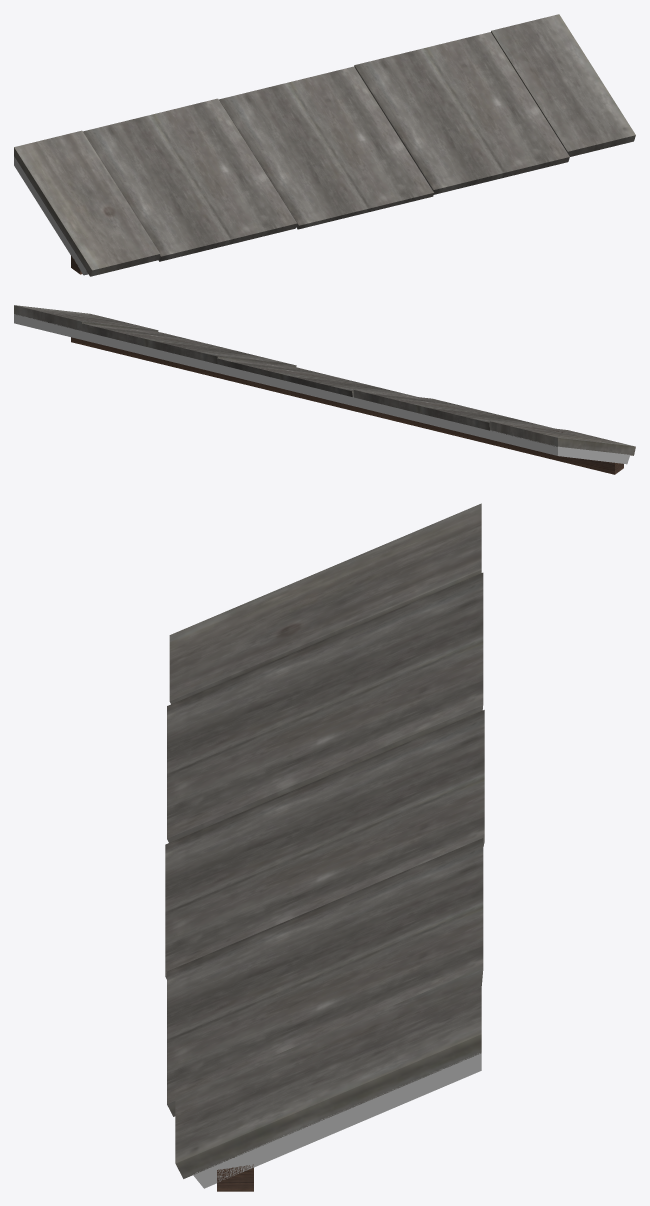
The model's file is itabuki_2x0t_a1middle.fbx.
3 views of the same model, one above another, from view 1: azimuth 30°, elevation 25°; view 2: azimuth 150°, elevation 25°; view 3: azimuth 270°, elevation 25° (orthographic). The views are drawn at different scales.
Parts seen in each view (by area): view 1: itabuki_2x0t_a1middle; view 2: itabuki_2x0t_a1middle; view 3: itabuki_2x0t_a1middle.
Part boxes in pixels (x1,y1,x2,y2): itabuki_2x0t_a1middle: [14, 14, 635, 276]; itabuki_2x0t_a1middle: [14, 305, 635, 474]; itabuki_2x0t_a1middle: [165, 503, 484, 1191].
Bounding box in the file's own units: 440 × 60.83 × 112.
